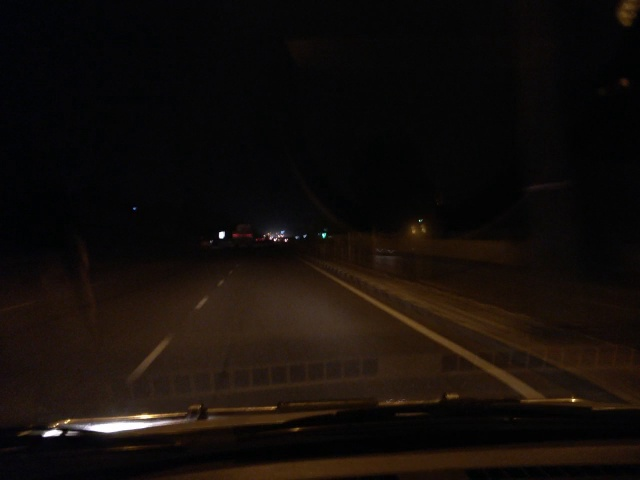truck: (234, 221, 259, 253)
